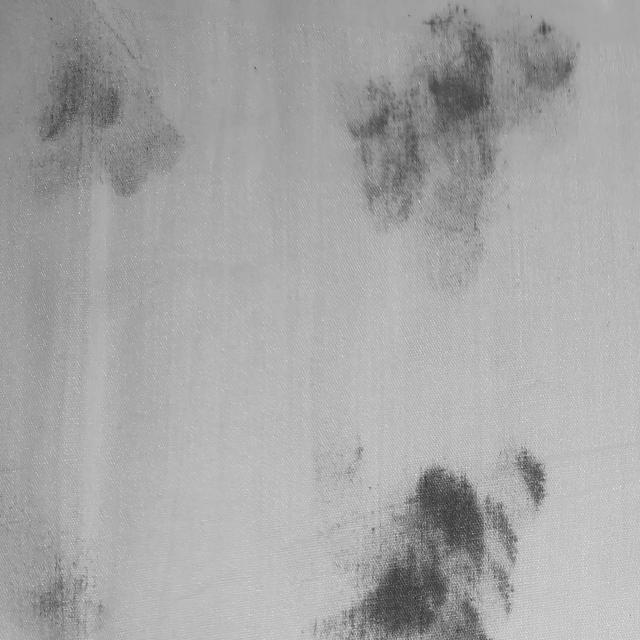Stain: (344, 5, 577, 290), (315, 447, 547, 640), (35, 2, 183, 194), (1, 482, 110, 640)
